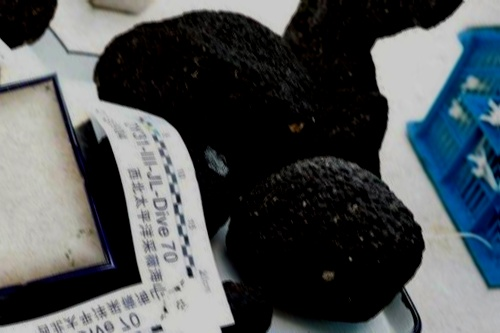halobolite: (210, 120, 453, 333), (104, 17, 319, 165), (239, 1, 409, 157), (203, 274, 282, 333)
